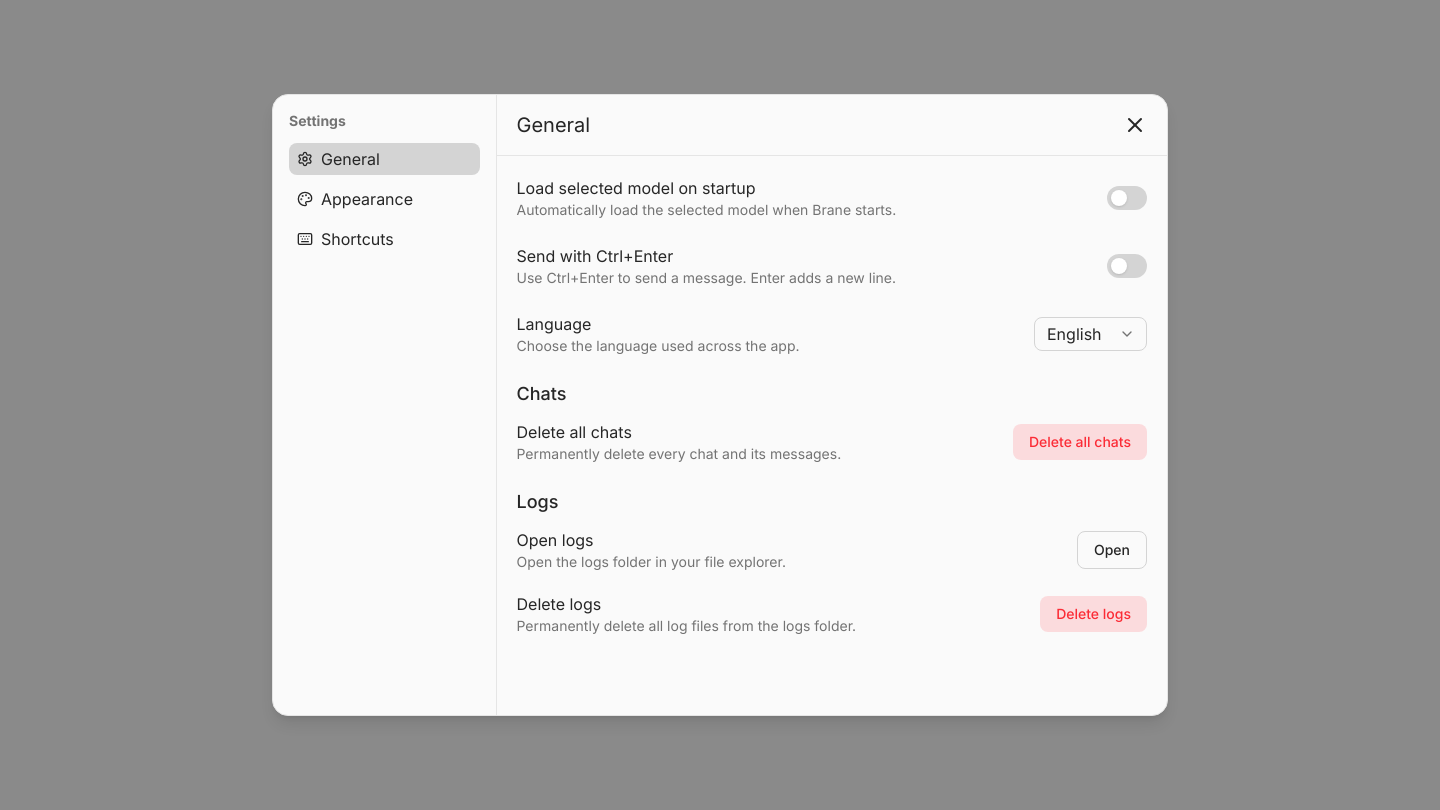
Test: SettingsModal › switches the active panel when a tab is clicked
Expected: the switch named "Send with Ctrl+Enter" in the row of "Send with Ctrl+Enter" is shown, [1107,254,1147,278]
Click the tab "Appearance". click: (384, 199)
box: [289,183,480,215]
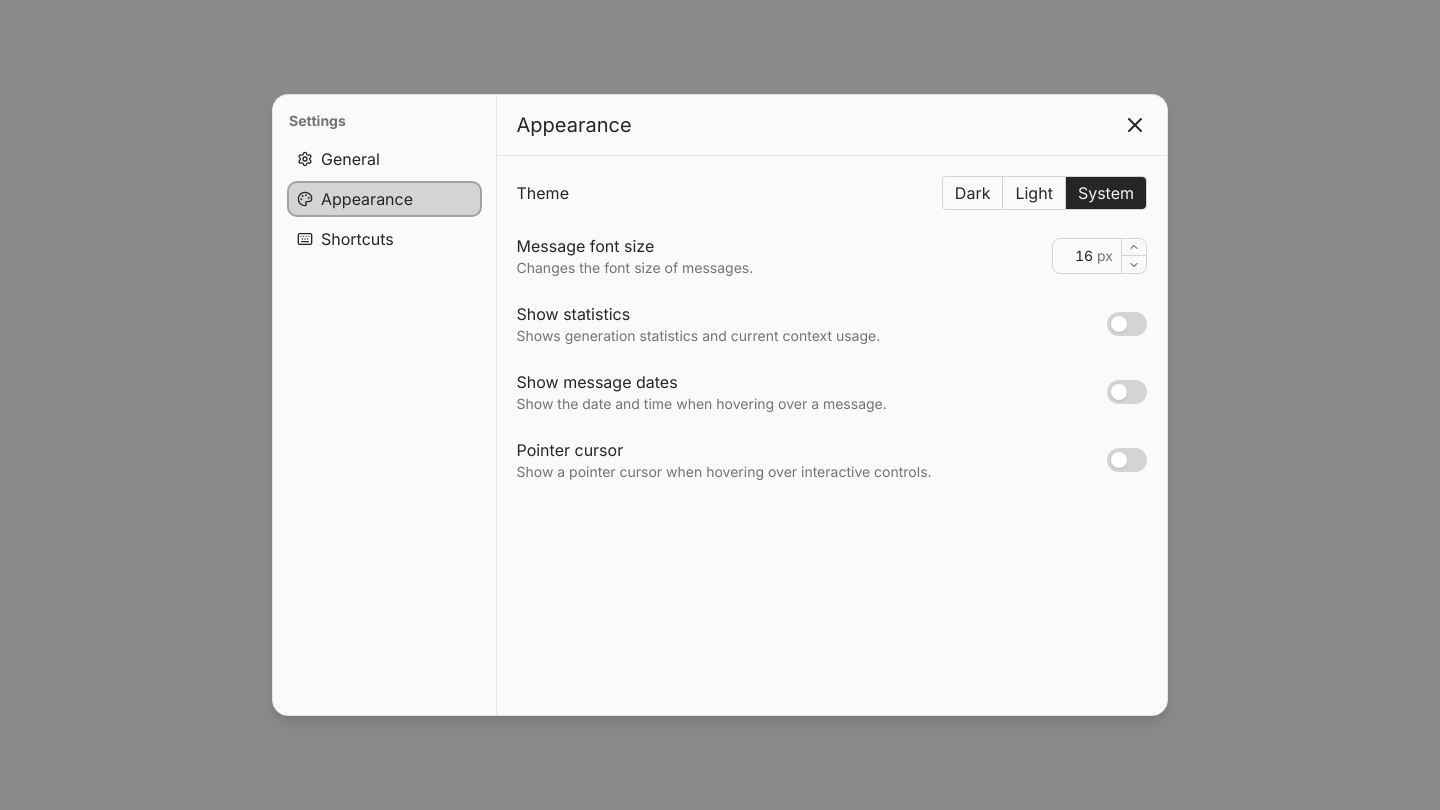
Now the heading "Appearance" is shown, box [516,111,632,139]
Now the heading "Send with Ctrl+Enter" is gone
